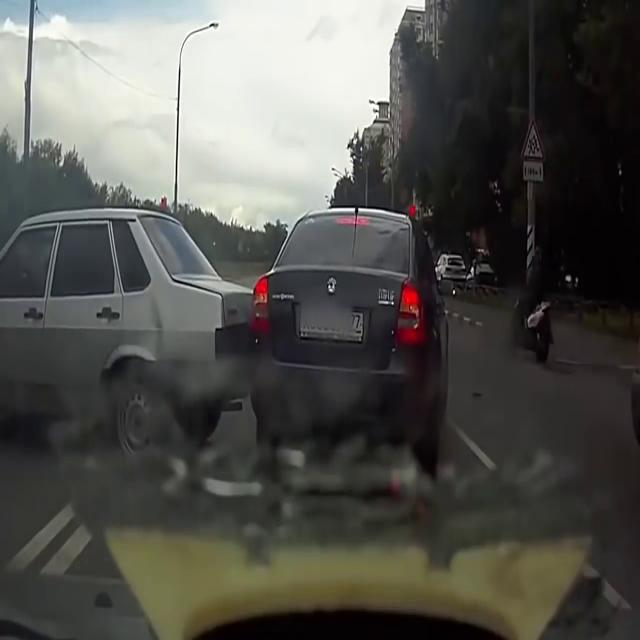accident: (0, 182, 449, 482)
